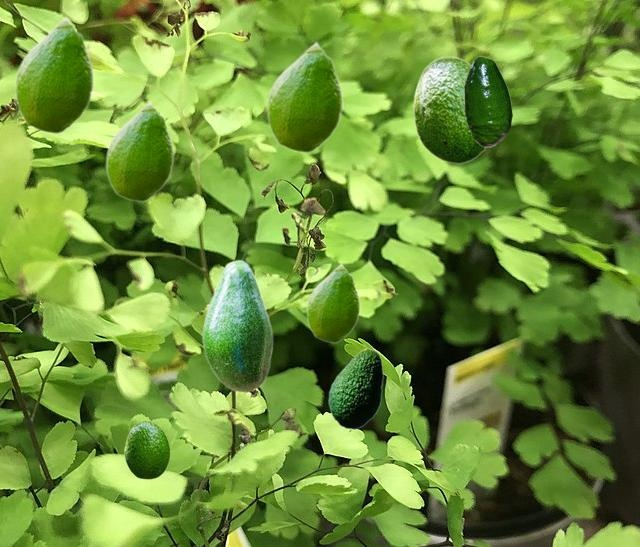avocado: (14, 15, 93, 133), (201, 263, 272, 392), (266, 40, 342, 152), (412, 56, 487, 163), (105, 100, 173, 201), (328, 348, 382, 428), (306, 262, 359, 342), (464, 56, 511, 146), (203, 259, 251, 321), (124, 420, 169, 478)
